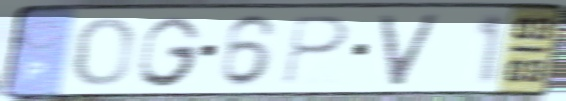1: (471, 11, 509, 88)
6: (218, 11, 279, 91)
G: (135, 14, 206, 90)
O: (70, 15, 136, 90)
P: (279, 13, 353, 88)
V: (376, 11, 444, 88)
